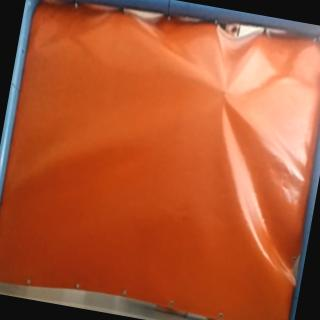Hit-hRxx: (216, 83, 236, 103)
